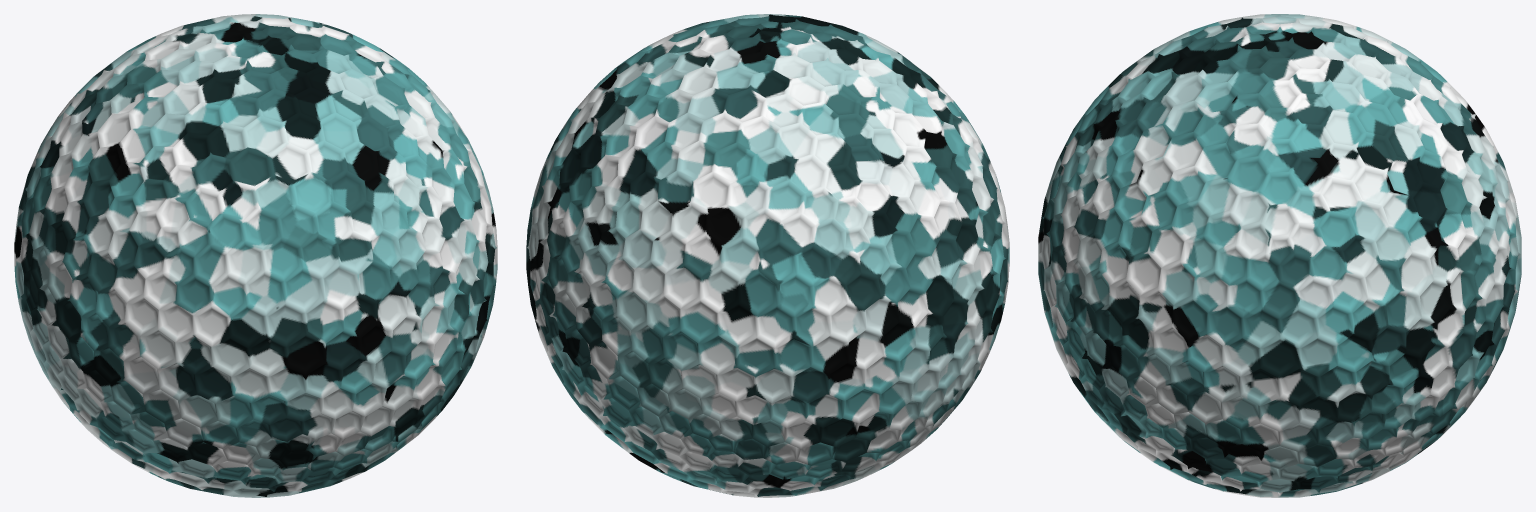
The model's file is BlueBlackCamoGolfBall.fbx.
3 renders of one model, left to right at view 1: azimuth 30°, elevation 25°; view 2: azimuth 150°, elevation 25°; view 3: azimuth 270°, elevation 25°, orthographic.
Visible parts, largest first — view 1: GolfBall; view 2: GolfBall; view 3: GolfBall.
Part boxes in pixels (x1,y1,x2,y2): GolfBall: (14, 14, 497, 497); GolfBall: (526, 14, 1009, 497); GolfBall: (1038, 14, 1521, 497).
Size of the model in its own units: 37.86 by 38 by 37.87.
Materials: 1 (1 with a texture image).
